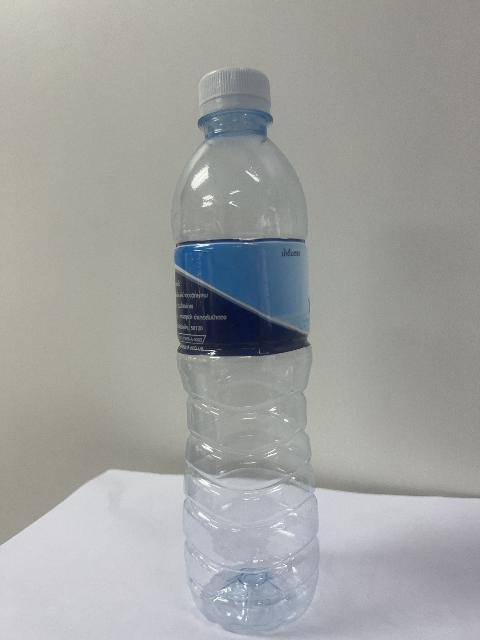bottle: (173, 68, 318, 633)
